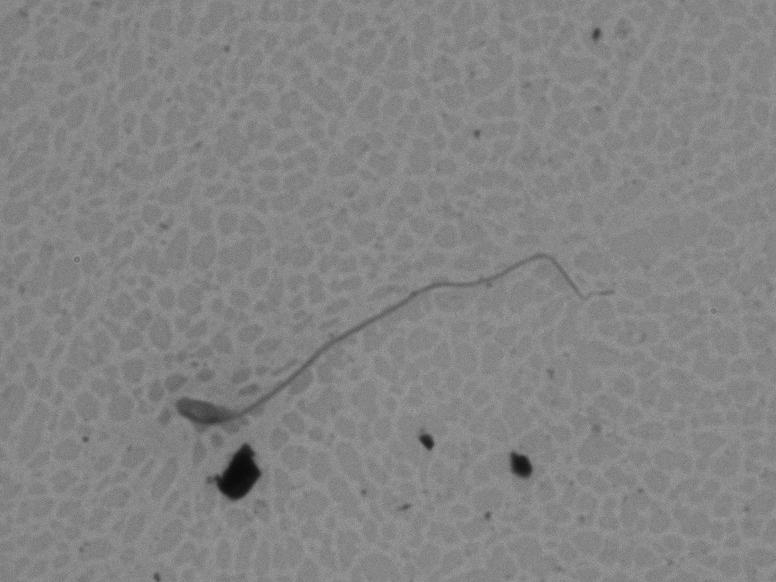Abnormal: (132, 218, 627, 438)
